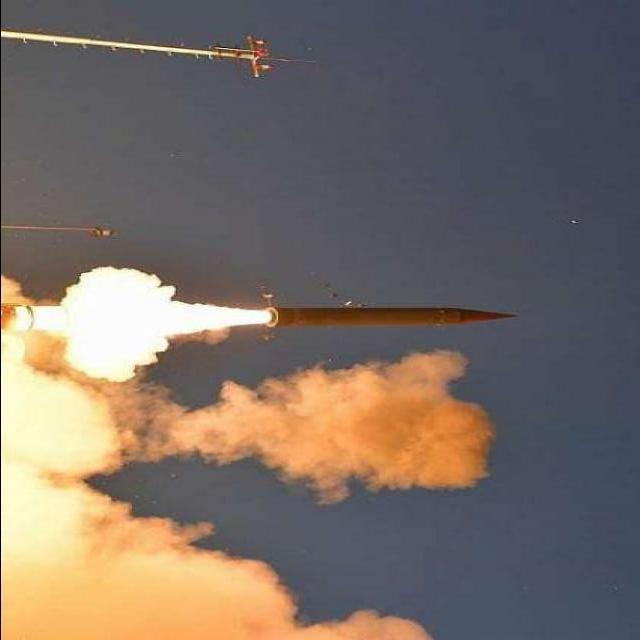missile: (260, 296, 518, 336)
